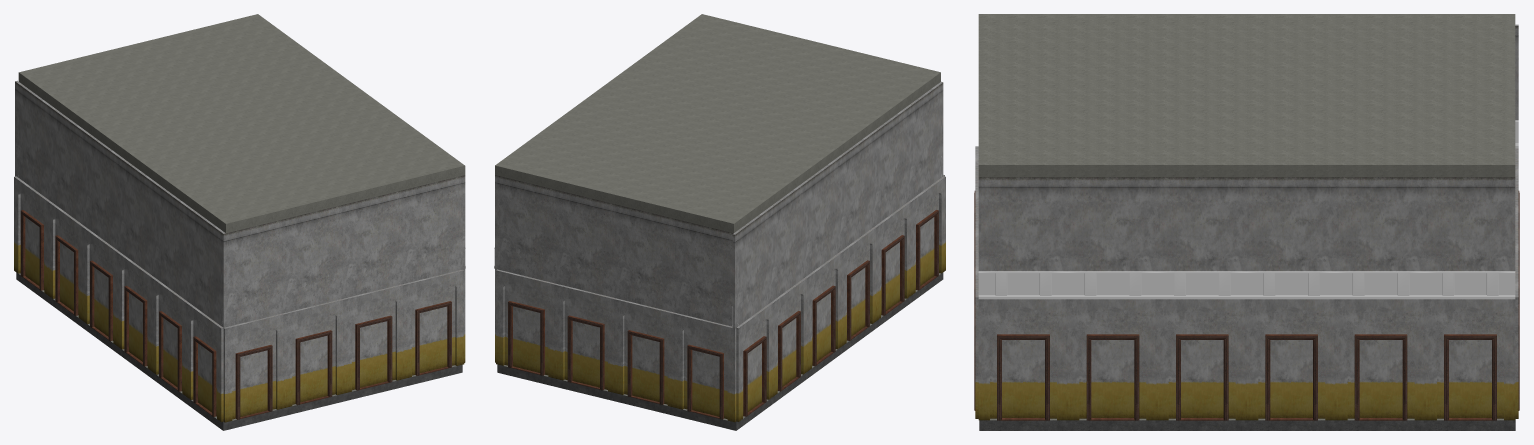
File: Room_4x6 (gym).fbx
3 views of the same model, side by side, from view 1: azimuth 30°, elevation 25°; view 2: azimuth 150°, elevation 25°; view 3: azimuth 270°, elevation 25° (orthographic). The views are drawn at different scales.
Parts seen in each view (by area): view 1: Wall (×20), Ceiling (×24), Arc (×10), DoorFrame (×10), Floor (×4), WallDoor (×2); view 2: Wall (×20), Ceiling (×24), Arc (×10), DoorFrame (×10), WallDoor (×4), Floor (×4); view 3: Ceiling (×24), Wall (×12), Arc (×8), WallTrim (×6), WallDoor (×6), DoorFrame (×6), Floor (×6).
Boxes of the visible parts, x1,y1,x2,y2 form: Wall (×20): (15, 80, 462, 419); Ceiling (×24): (18, 14, 465, 233); Arc (×10): (14, 176, 464, 422); DoorFrame (×10): (20, 210, 451, 419); Floor (×4): (189, 365, 462, 430); WallDoor (×2): (292, 299, 395, 402); Wall (×20): (497, 83, 941, 418); Ceiling (×24): (495, 14, 940, 232); Arc (×10): (496, 176, 945, 422); DoorFrame (×10): (508, 210, 938, 419); WallDoor (×4): (504, 284, 800, 418); Floor (×4): (497, 364, 770, 430); Ceiling (×24): (978, 14, 1515, 177); Wall (×12): (978, 177, 1515, 418); Arc (×8): (975, 259, 1518, 420); WallTrim (×6): (978, 271, 1515, 299); WallDoor (×6): (990, 307, 1503, 418); DoorFrame (×6): (997, 334, 1496, 420); Floor (×6): (979, 419, 1515, 430).
Size of the model in its own units: 8.21 by 6.6 by 12.2.
